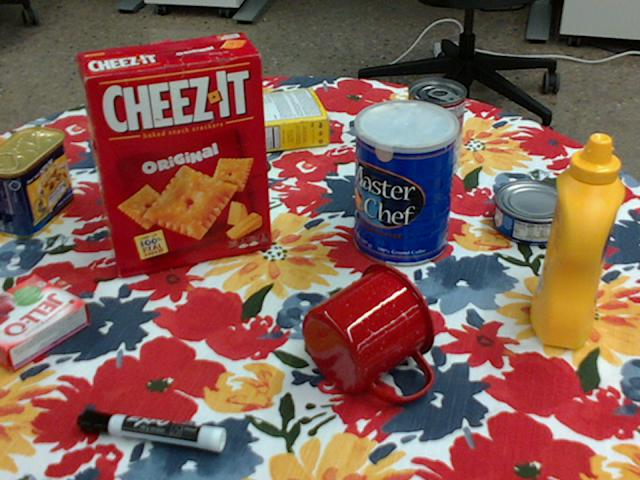cracker_box: (75, 33, 268, 274)
gelatin_box: (0, 275, 90, 372)
large_marker: (77, 408, 226, 452)
master_chef_can: (354, 100, 458, 267)
mug: (302, 263, 437, 402)
mustard_bottle: (529, 134, 622, 348)
potted_meat_can: (0, 125, 70, 237)
sugar_box: (177, 88, 327, 161)
tomato_soup_can: (404, 78, 465, 180)
tuna_fish_can: (492, 181, 575, 247)
